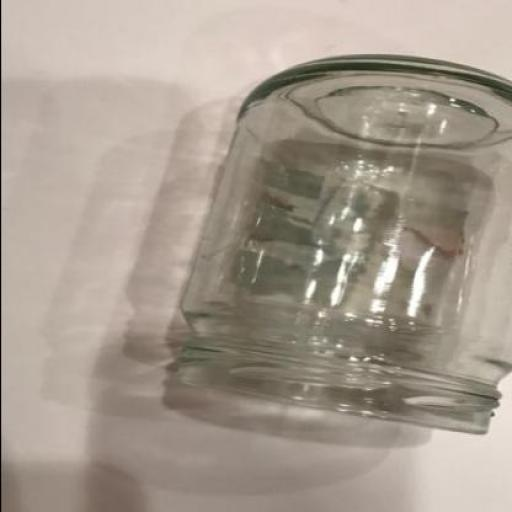glass: (177, 52, 511, 434)
